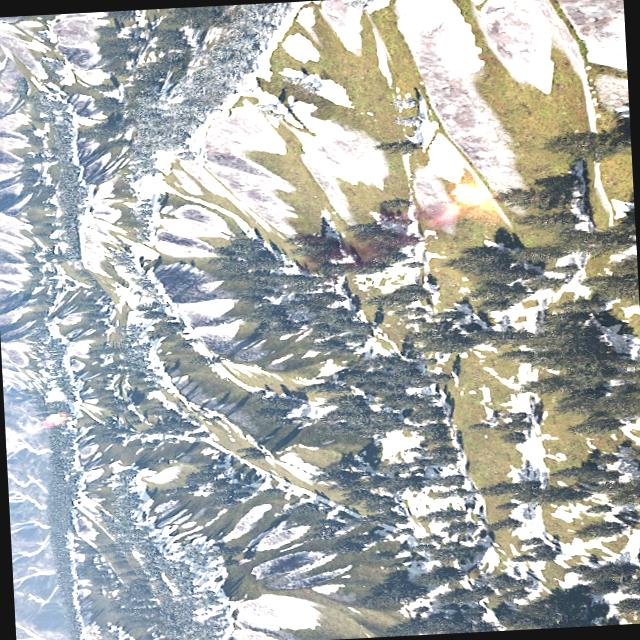fire: (434, 180, 492, 223), (44, 411, 66, 424)
smoke: (291, 201, 465, 272), (5, 414, 46, 434)
